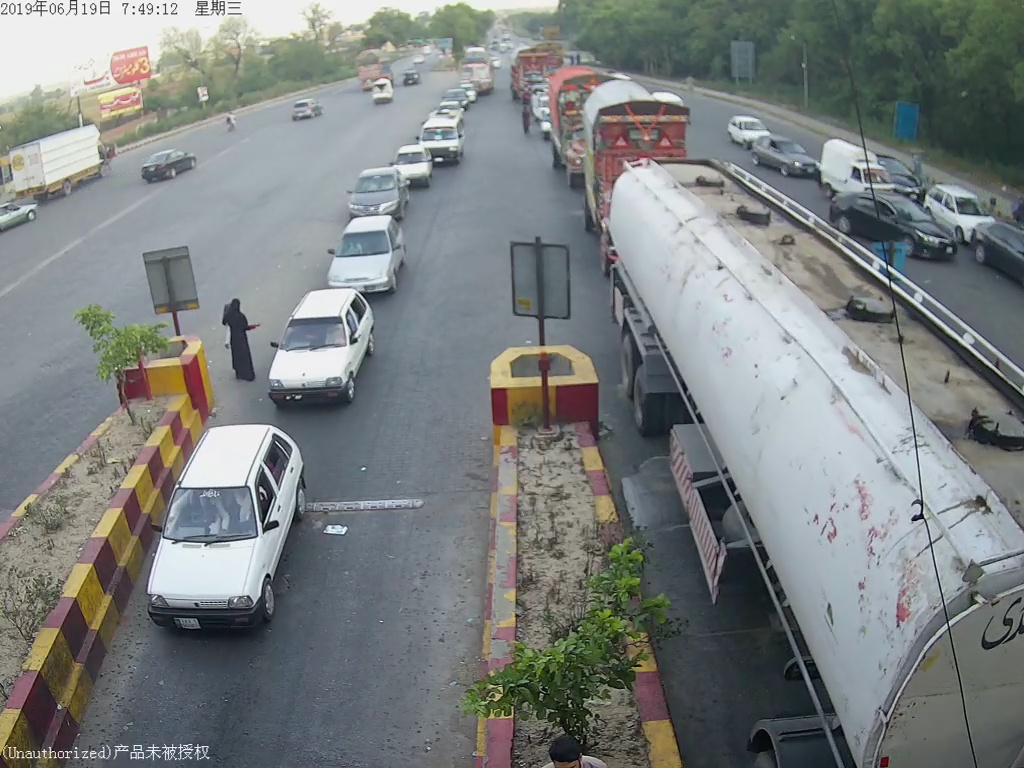Cat-1: (145, 423, 303, 630), (265, 291, 373, 401), (324, 218, 402, 293), (347, 174, 411, 218)
Cat-4: (571, 81, 685, 251)
